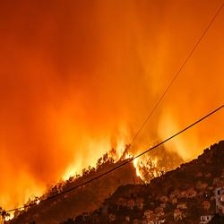fire: (3, 134, 191, 224)
